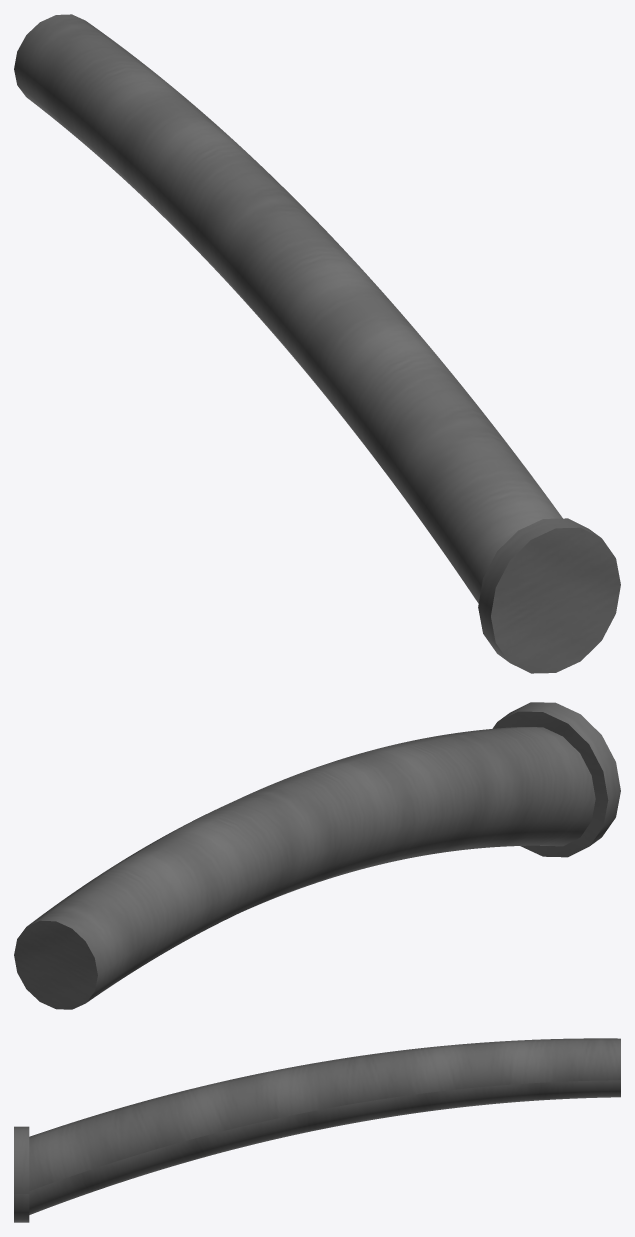
File: mastarmcurve_5x1_inv.obj
3 views of the same model, one above another, from view 1: azimuth 30°, elevation 25°; view 2: azimuth 150°, elevation 25°; view 3: azimuth 270°, elevation 25° (orthographic). The views are drawn at different scales.
Visible parts, largest first — view 1: mastarm_5x1_inv; view 2: mastarm_5x1_inv; view 3: mastarm_5x1_inv.
Boxes of the visible parts, bbox=[...] form: mastarm_5x1_inv: bbox=[14, 14, 620, 673]; mastarm_5x1_inv: bbox=[14, 702, 620, 1009]; mastarm_5x1_inv: bbox=[14, 1038, 620, 1222].
Bounding box in the file's own units: 0.1503 × 0.3225 × 1.
